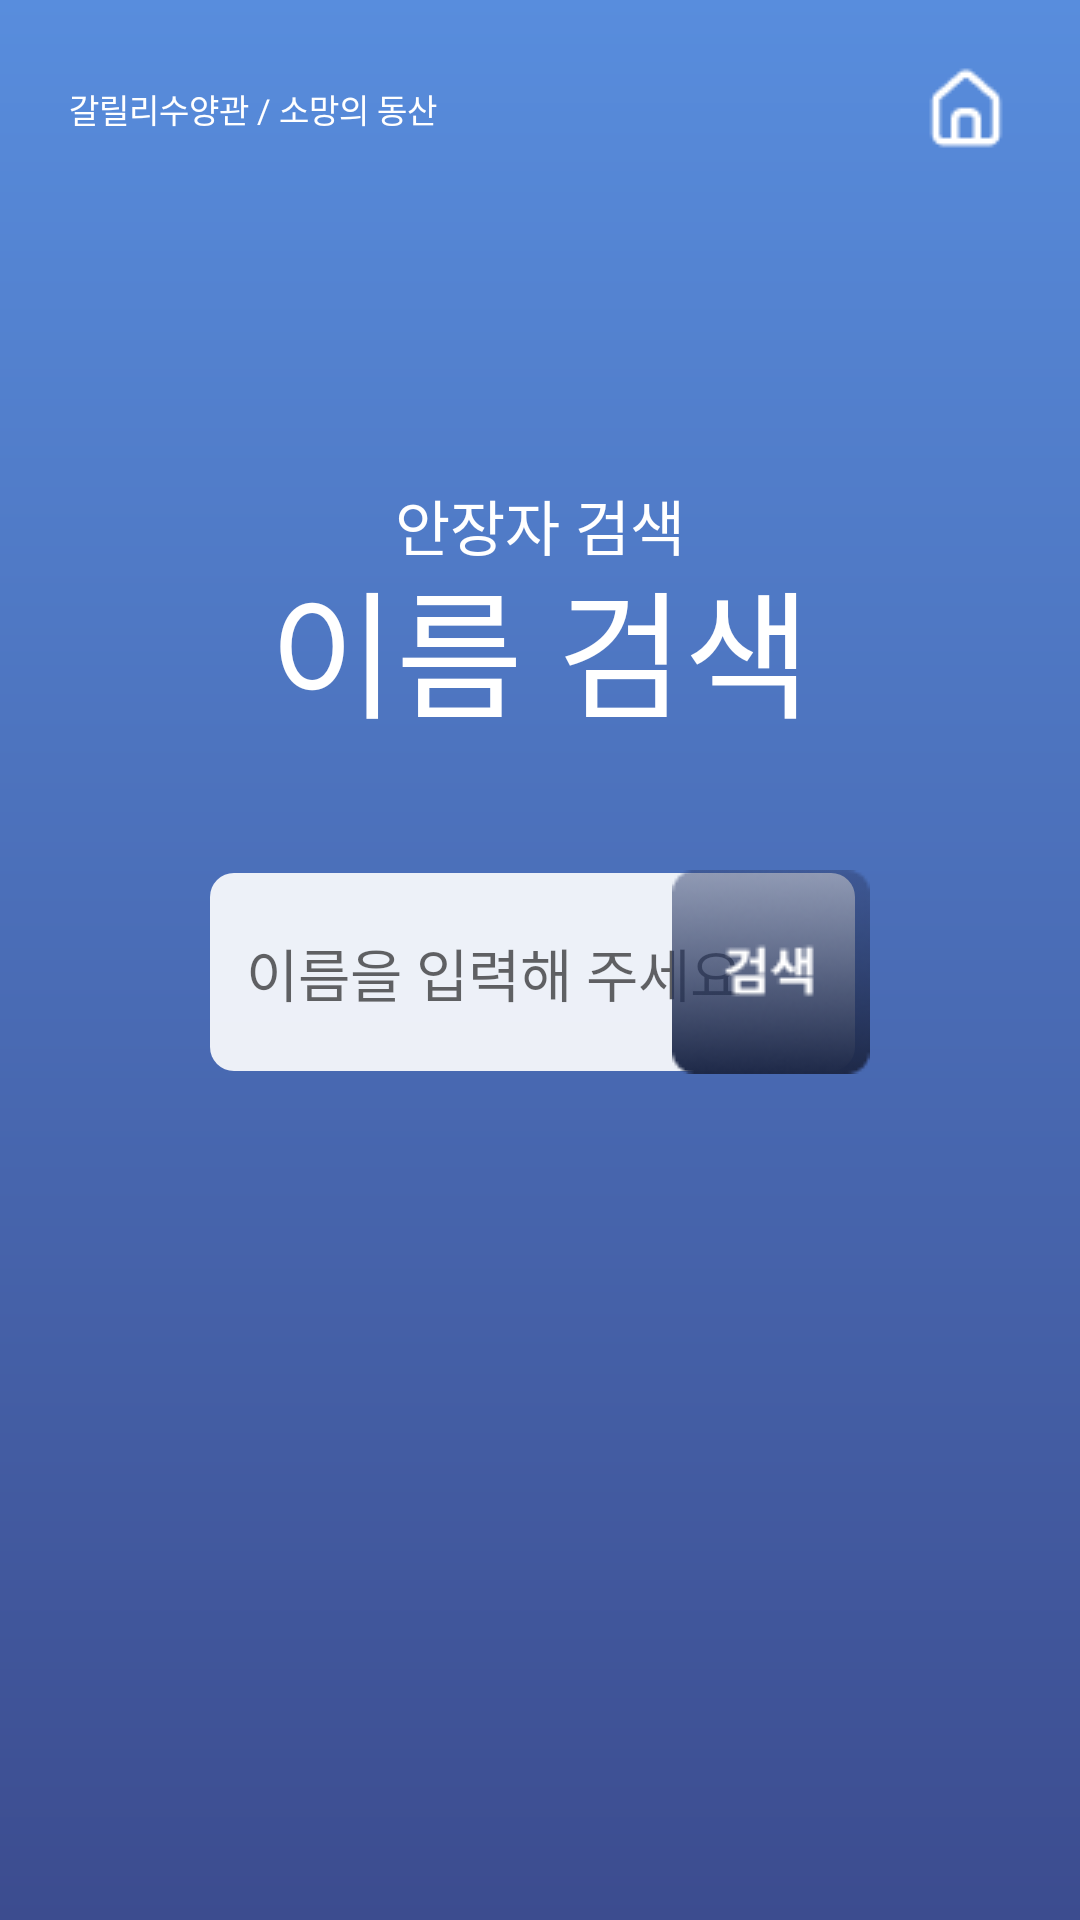

Screen size 1080 x 1920. Icon name, then its center in pixels as (x=x, y=y):
home: (x=966, y=108)
